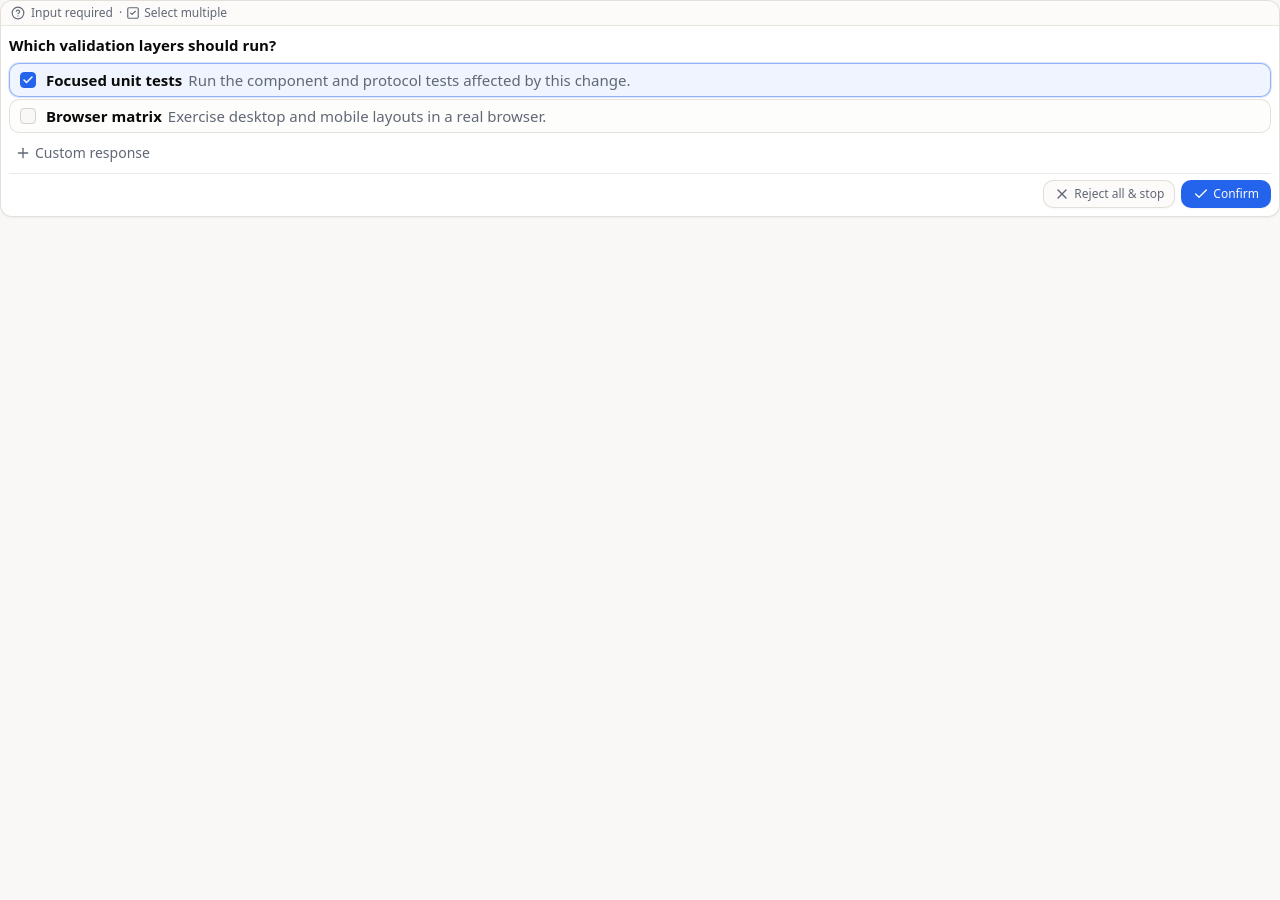
AskUserChoiceCard › exits custom mode through a normal choice or Escape without a redundant cancel action
The width and height of the screenshot is (1280, 900).
Click the checkbox with test id "ask-user-choice-option-browser": (28, 116) top-left (20, 108), bottom-right (36, 124)
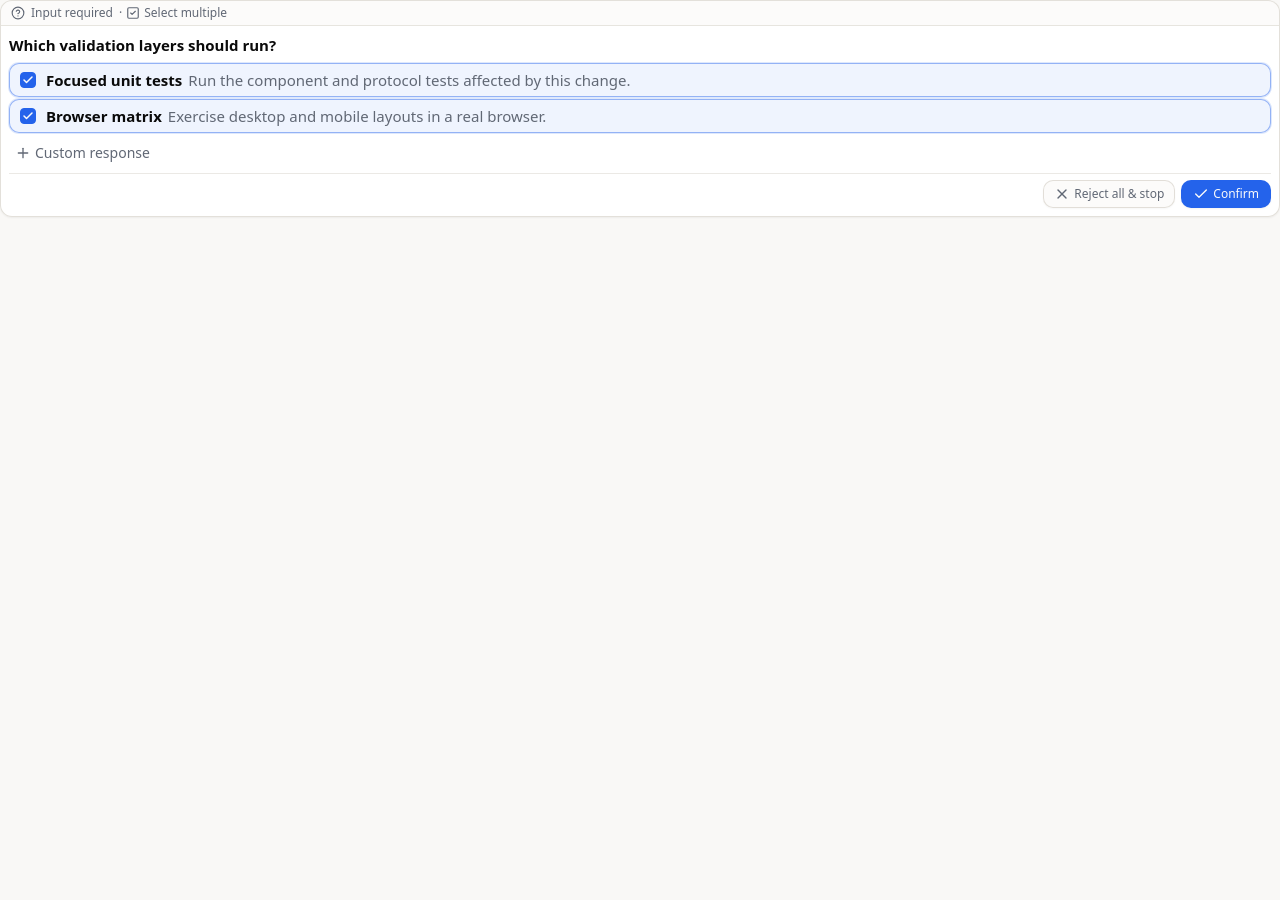
Click the button with test id "ask-user-choice-custom-option": (82, 152) top-left (9, 138), bottom-right (156, 166)
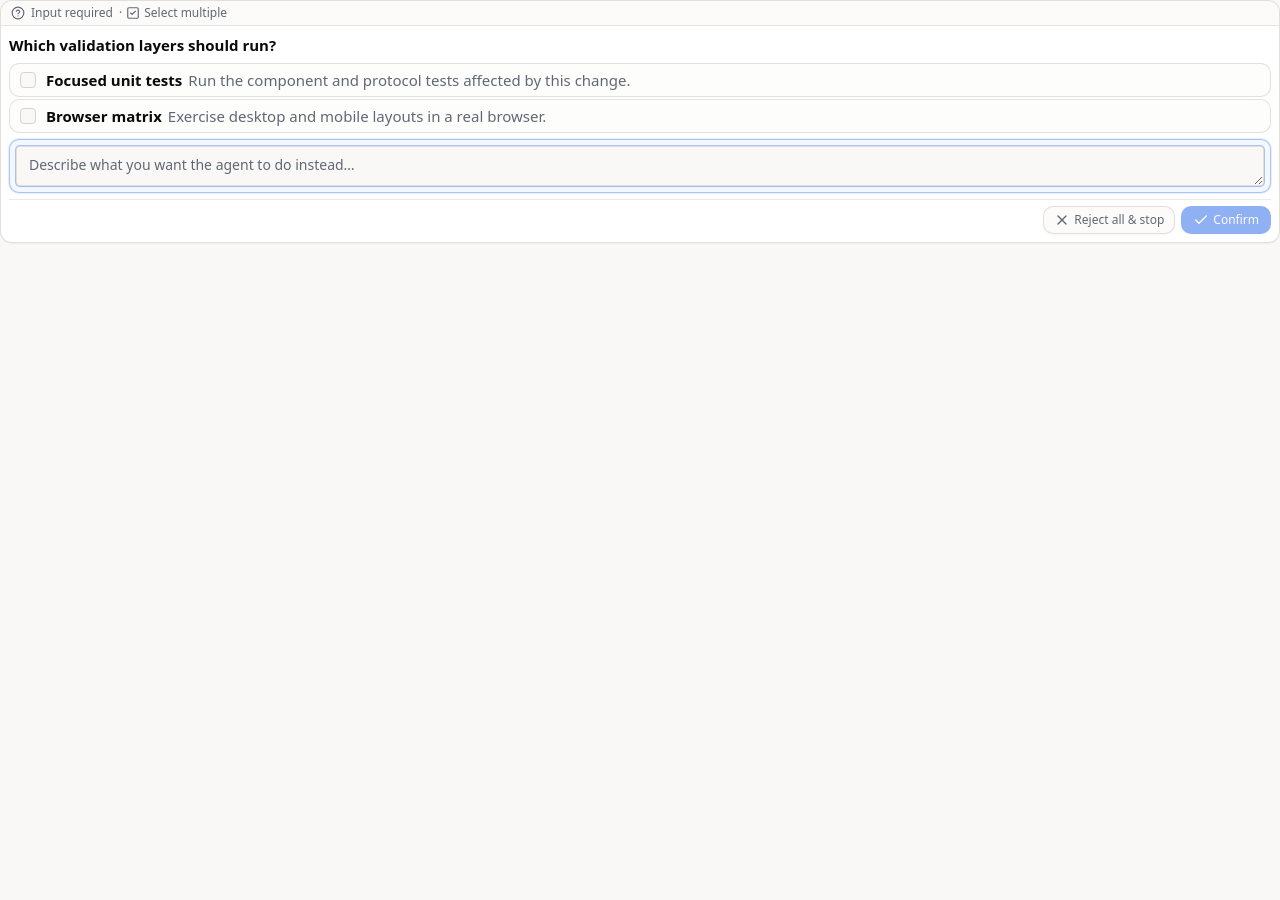
In the text box with test id "ask-user-choice-custom-input": (640, 166) top-left (16, 146), bottom-right (1264, 186), type "Keep this draft for later."
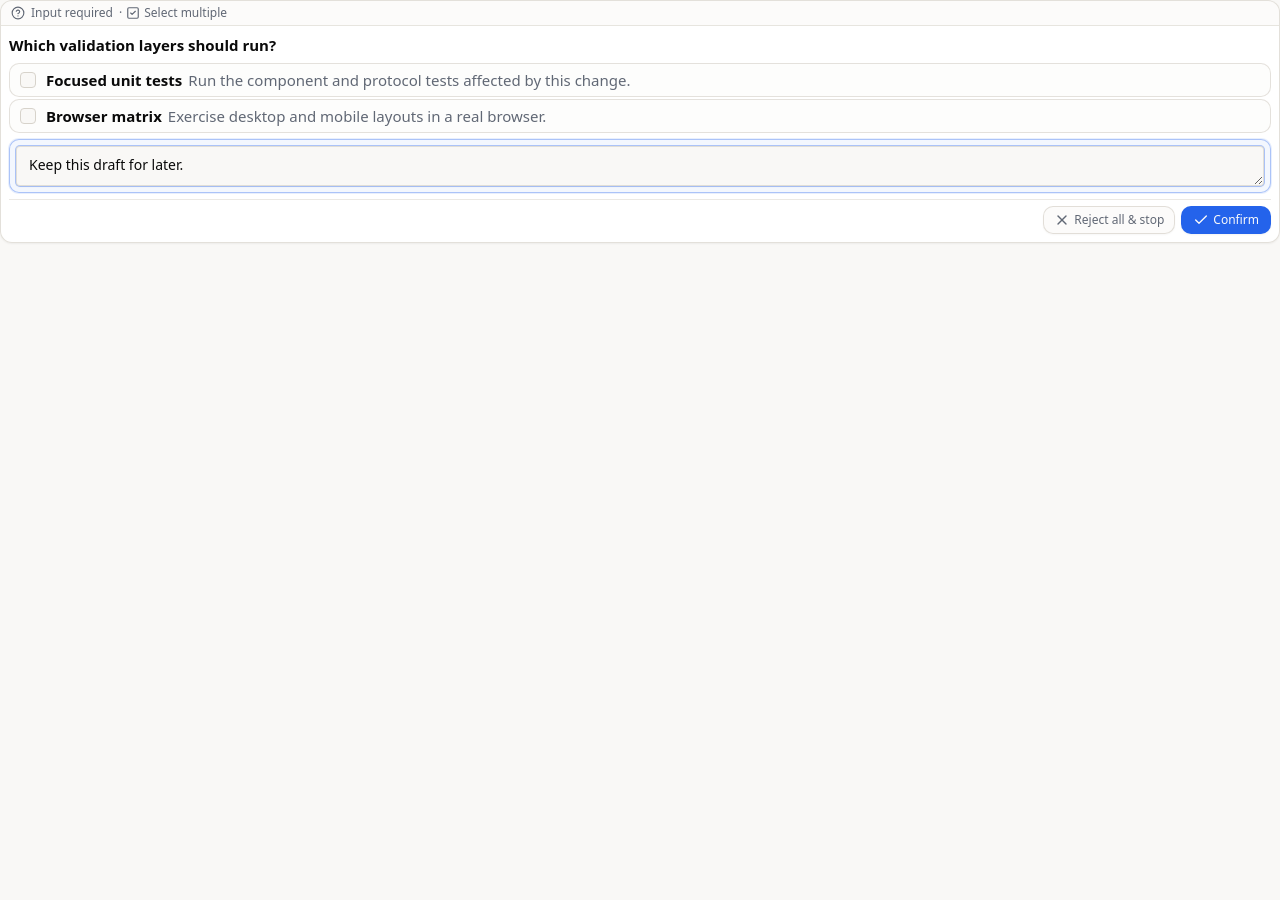
Click the checkbox with test id "ask-user-choice-option-unit": (28, 80) top-left (20, 72), bottom-right (36, 88)
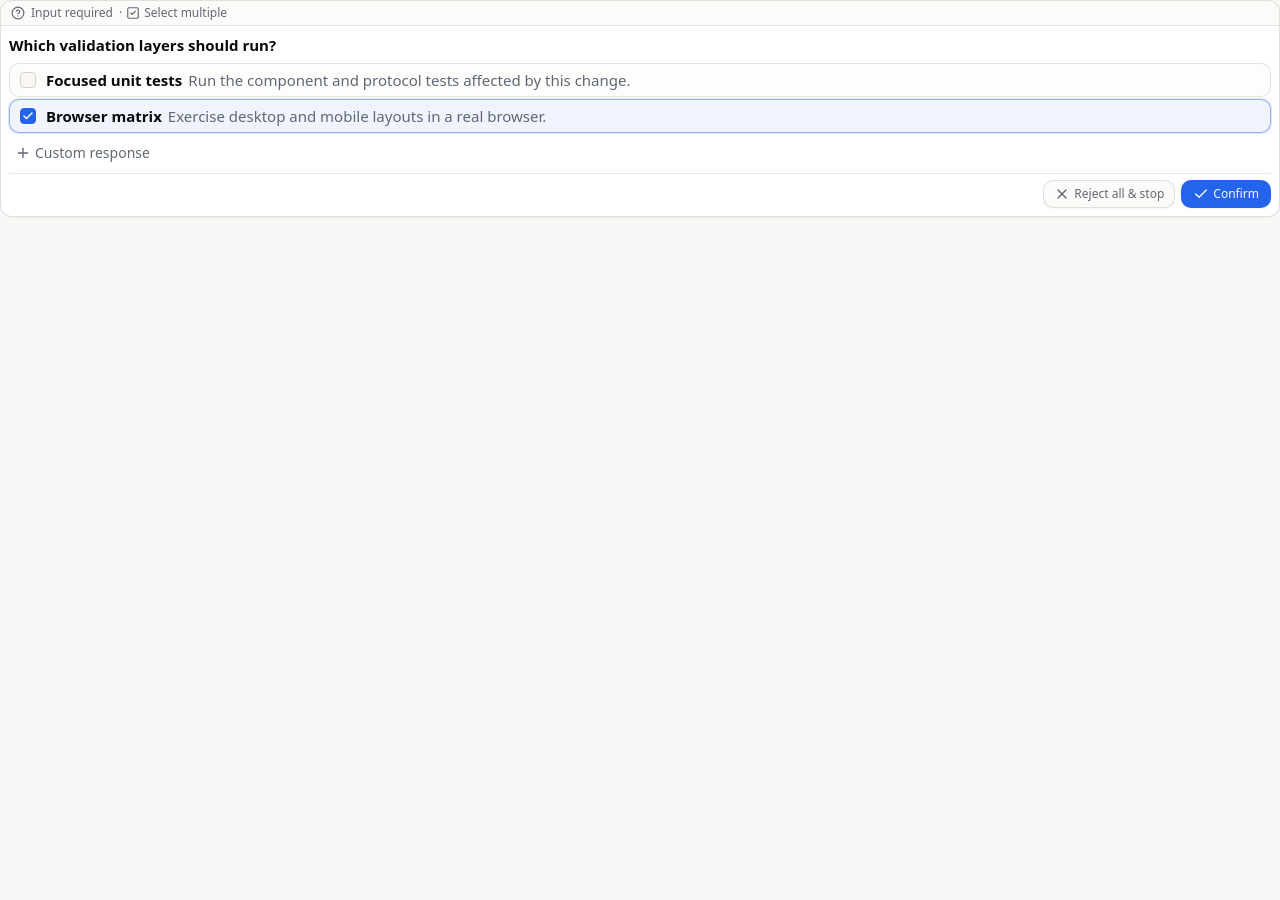
Check: the text box with test id "ask-user-choice-custom-input" is gone
Click the button with test id "ask-user-choice-custom-option": (82, 152) top-left (9, 138), bottom-right (156, 166)
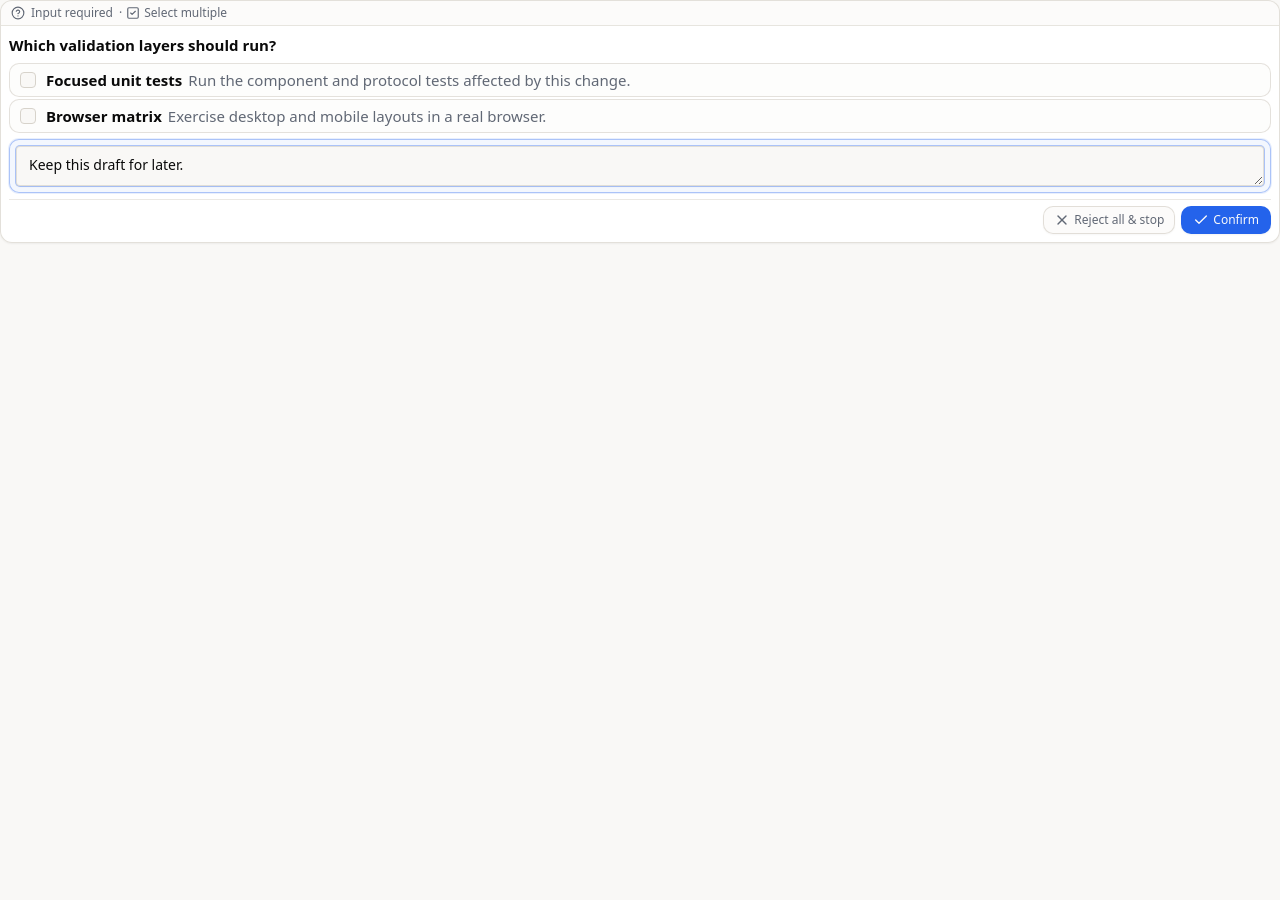
Check: the text box with test id "ask-user-choice-custom-input" holds "Keep this draft for later."
Press Escape in the text box with test id "ask-user-choice-custom-input", box top-left (16, 146), bottom-right (1264, 186)
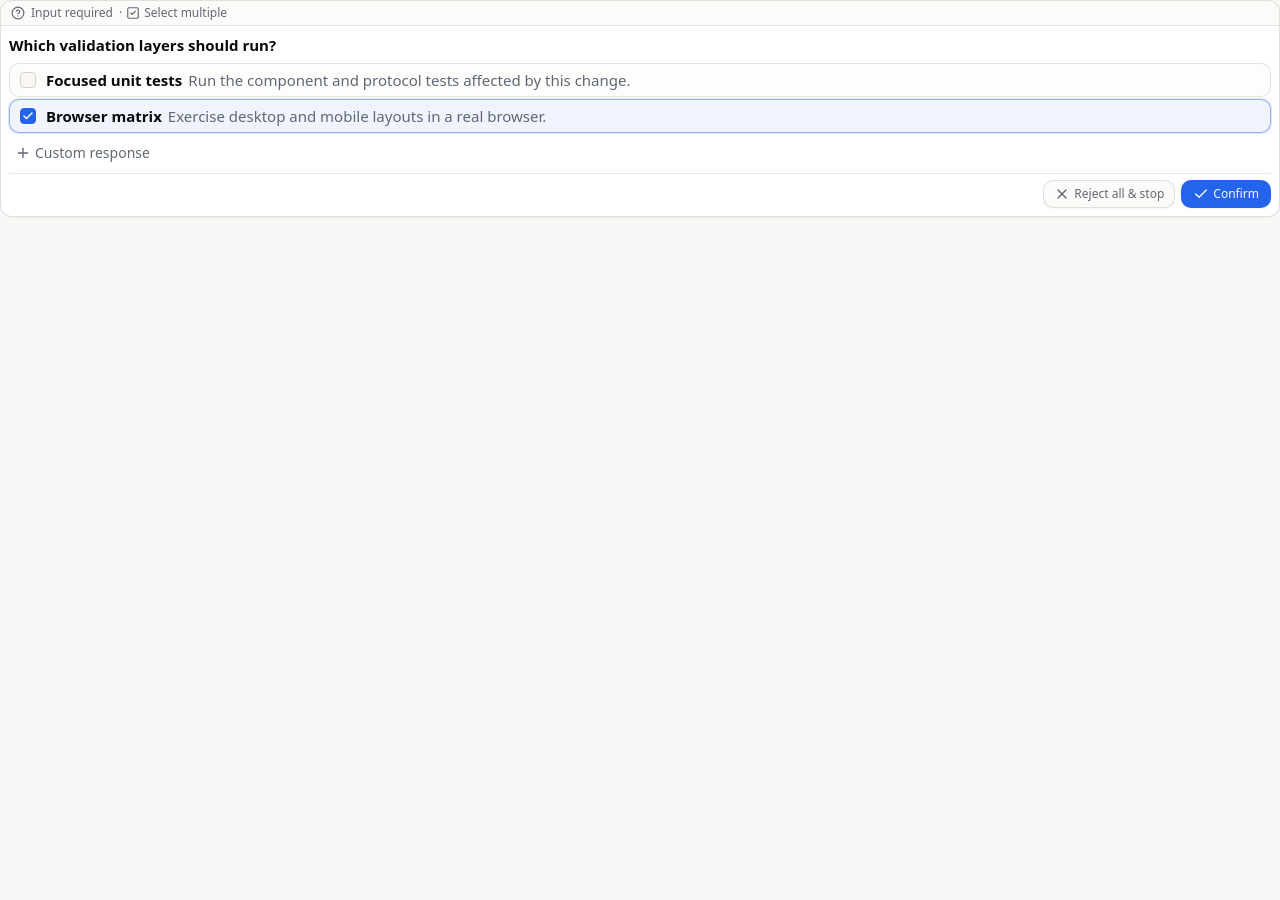
Check: the text box with test id "ask-user-choice-custom-input" is gone
